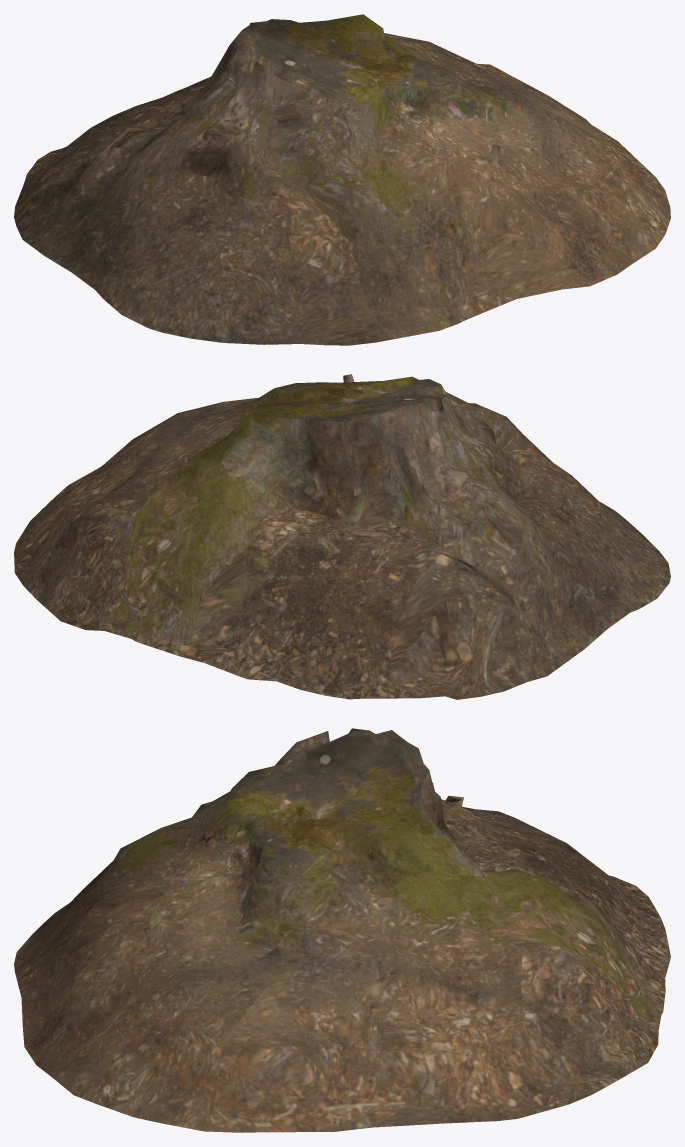
The model's file is kutuk_lod1.glb.
3 renders of one model, top to bottom at view 1: azimuth 30°, elevation 25°; view 2: azimuth 150°, elevation 25°; view 3: azimuth 270°, elevation 25°, orthographic. The views are drawn at different scales.
Parts seen in each view (by area): view 1: kutuk_lod1; view 2: kutuk_lod1; view 3: kutuk_lod1.
Part boxes in pixels (<box>): kutuk_lod1: <box>14,14,670,345</box>; kutuk_lod1: <box>14,374,670,699</box>; kutuk_lod1: <box>14,728,670,1132</box>.
Bounding box in the file's own units: 1.75 × 0.5966 × 1.61.
1 material, 1 textured.
